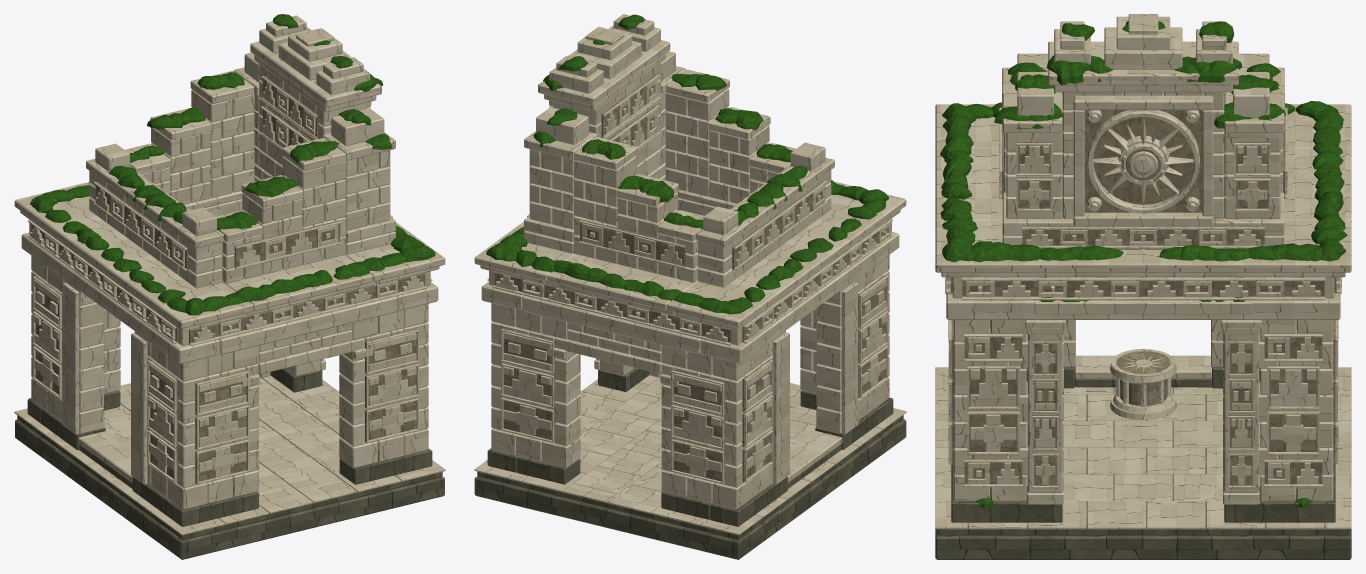
3 views of the same model, side by side, from view 1: azimuth 30°, elevation 25°; view 2: azimuth 150°, elevation 25°; view 3: azimuth 270°, elevation 25° (orthographic). The views are drawn at different scales.
Parts seen in each view (by area): view 1: Mesh_Sanctuary_Masonry, Mesh_Sanctuary_DampBase, Mesh_Sanctuary_Moss, Mesh_Sanctuary_Relief; view 2: Mesh_Sanctuary_Masonry, Mesh_Sanctuary_DampBase, Mesh_Sanctuary_Moss, Mesh_Sanctuary_Relief; view 3: Mesh_Sanctuary_Masonry, Mesh_Sanctuary_Relief, Mesh_Sanctuary_Moss, Mesh_Sanctuary_DampBase, Mesh_Sanctuary_Sunburst, Mesh_Sanctuary_Altar.
Part boxes in pixels (x1=…): Mesh_Sanctuary_Masonry: x1=14, y1=15, x2=445, y2=535; Mesh_Sanctuary_DampBase: x1=15, y1=368, x2=444, y2=559; Mesh_Sanctuary_Moss: x1=30, y1=14, x2=435, y2=315; Mesh_Sanctuary_Relief: x1=31, y1=75, x2=425, y2=493; Mesh_Sanctuary_Masonry: x1=474, y1=14, x2=906, y2=535; Mesh_Sanctuary_DampBase: x1=474, y1=368, x2=906, y2=559; Mesh_Sanctuary_Moss: x1=486, y1=14, x2=888, y2=314; Mesh_Sanctuary_Relief: x1=494, y1=74, x2=886, y2=483; Mesh_Sanctuary_Masonry: x1=935, y1=14, x2=1351, y2=529; Mesh_Sanctuary_Relief: x1=950, y1=110, x2=1336, y2=527; Mesh_Sanctuary_Moss: x1=940, y1=21, x2=1347, y2=508; Mesh_Sanctuary_DampBase: x1=935, y1=367, x2=1351, y2=559; Mesh_Sanctuary_Sunburst: x1=1073, y1=95, x2=1213, y2=226; Mesh_Sanctuary_Altar: x1=1110, y1=349, x2=1176, y2=419.
Bounding box in the file's own units: 6.2 × 9.2 × 6.8.
4 materials, 4 textured.
